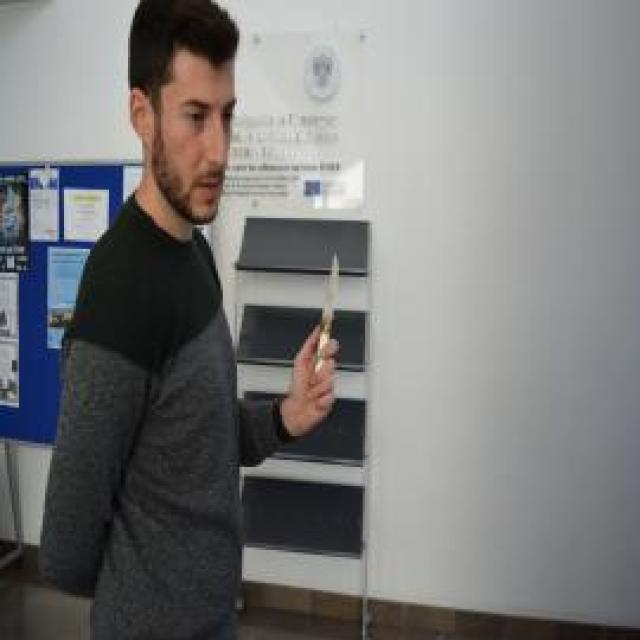knife: (311, 249, 344, 382)
